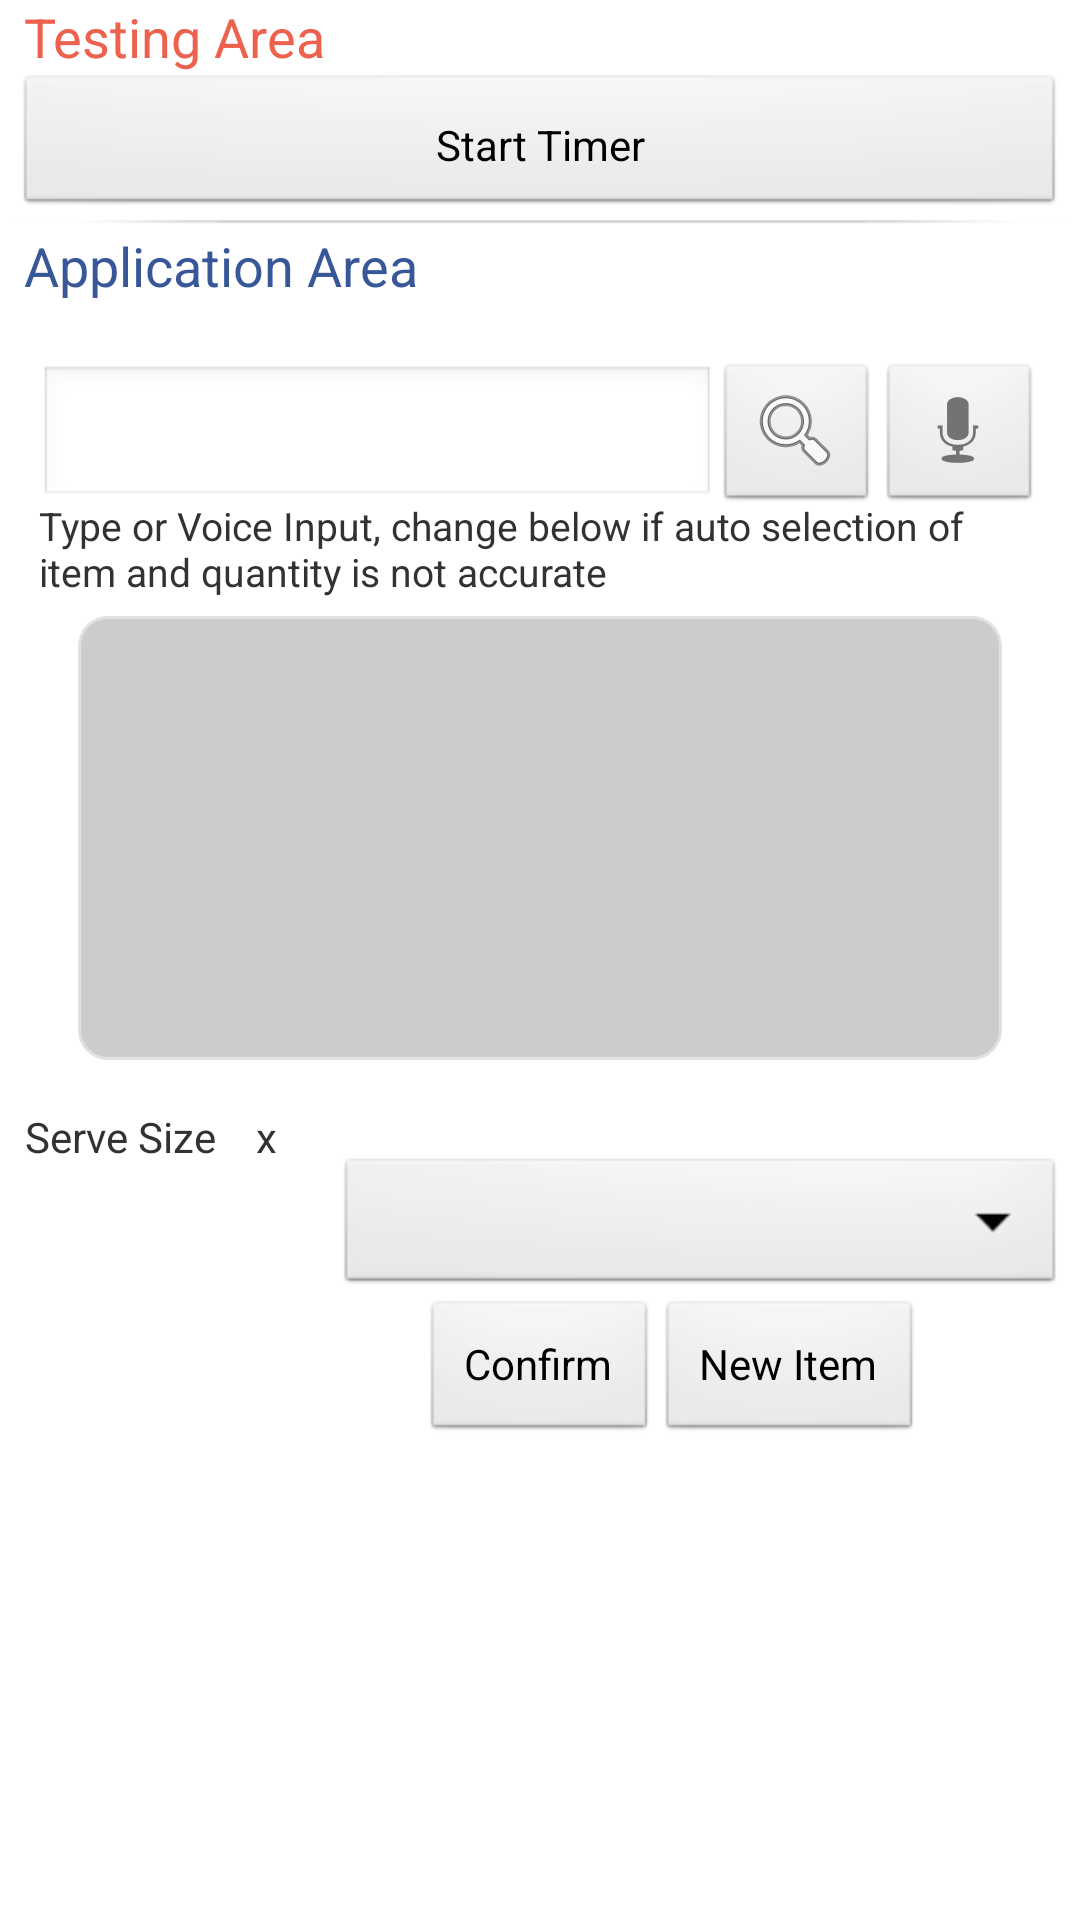

Icons on this 1080w x 1920h Android screen, each with its box as (x1, y1, x2, y2):
search: (723, 364, 870, 513)
speak now: (886, 364, 1033, 513)
